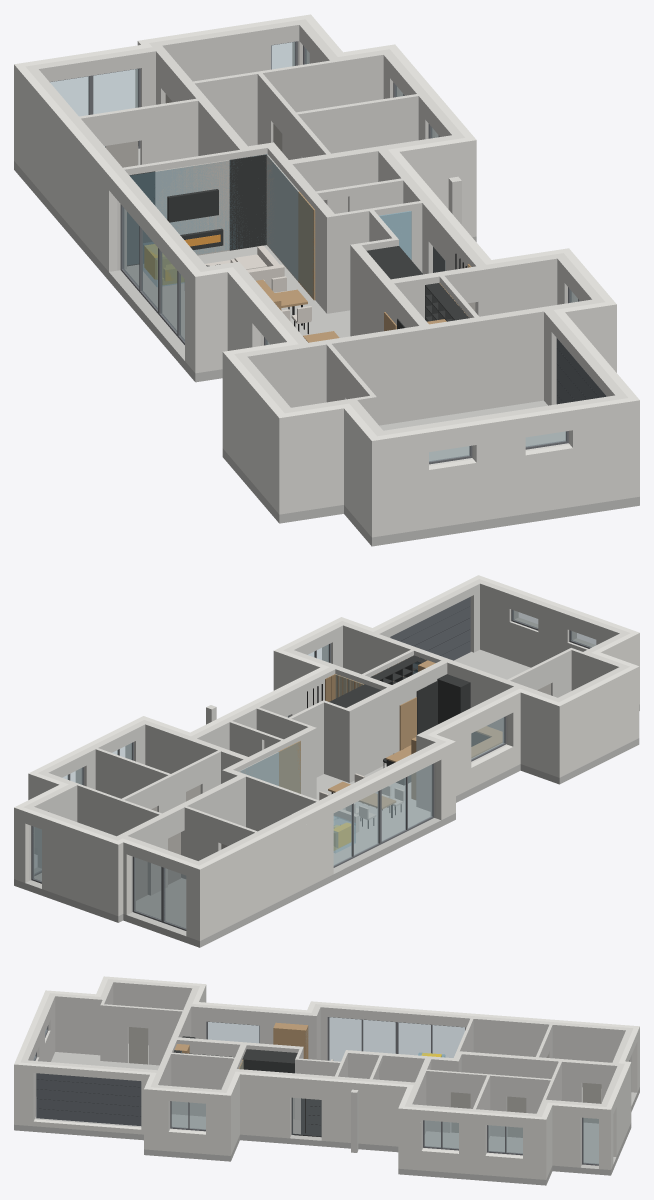
Rendered from dom_wnetrze.glb.
3 renders of one model, top to bottom at view 1: azimuth 30°, elevation 25°; view 2: azimuth 150°, elevation 25°; view 3: azimuth 270°, elevation 25°, orthographic. The views are drawn at different scales.
Parts seen in each view (by area): view 1: SCIANY_rdzenie_02, IZ_12_z_2738_3100, SCIANY_rdzenie_11, IZ_04_z_1000_1888_01, SCIANY_rdzenie_09, PODLOGA_pakiet_stan_wykonany, IZ_02_z_238_900_01, SCIANY_rdzenie_06, SCIANY_rdzenie_10, SCIANY_rdzenie_07, SCIANY_rdzenie_01, BLK_SAL_ART_WALL (+40 smaller); view 2: SCIANY_rdzenie_02, IZ_12_z_2738_3100, SCIANY_rdzenie_11, PODLOGA_pakiet_stan_wykonany, SCIANY_rdzenie_06, SCIANY_rdzenie_09, SCIANY_rdzenie_10, IZ_02_z_238_900_01, IZ_04_z_1000_1888_03, IZ_04_z_1000_1888_01, SCIANY_rdzenie_04, DR01_brama_panel (+39 smaller); view 3: SCIANY_rdzenie_02, IZ_12_z_2738_3100, SCIANY_rdzenie_06, PODLOGA_pakiet_stan_wykonany, DR01_brama_panel, SCIANY_rdzenie_11, IZ_02_z_238_900_05, W10_O7_pokoj_10_szklo, SCIANY_rdzenie_09, IZ_02_z_238_900_06, SCIANY_rdzenie_05, W09_O6_pokoj_10_szklo (+49 smaller).
Boxes of the visible parts, <box> form: SCIANY_rdzenie_02: <box>234,231,604,436</box>; IZ_12_z_2738_3100: <box>14,14,639,452</box>; SCIANY_rdzenie_11: <box>279,126,464,313</box>; IZ_04_z_1000_1888_01: <box>222,390,639,506</box>; SCIANY_rdzenie_09: <box>172,35,399,146</box>; PODLOGA_pakiet_stan_wykonany: <box>14,148,639,546</box>; IZ_02_z_238_900_01: <box>185,333,639,529</box>; SCIANY_rdzenie_06: <box>25,64,276,270</box>; SCIANY_rdzenie_10: <box>282,85,434,159</box>; SCIANY_rdzenie_07: <box>139,25,270,106</box>; SCIANY_rdzenie_01: <box>446,229,573,316</box>; BLK_SAL_ART_WALL: <box>267,155,314,296</box>; SCIANY_rdzenie_02: <box>314,621,630,782</box>; IZ_12_z_2738_3100: <box>14,575,639,877</box>; SCIANY_rdzenie_11: <box>130,701,316,799</box>; PODLOGA_pakiet_stan_wykonany: <box>14,704,639,947</box>; SCIANY_rdzenie_06: <box>179,767,328,878</box>; SCIANY_rdzenie_09: <box>38,766,167,895</box>; SCIANY_rdzenie_10: <box>81,741,185,813</box>; IZ_02_z_238_900_01: <box>436,683,639,814</box>; IZ_04_z_1000_1888_03: <box>186,831,333,917</box>; IZ_04_z_1000_1888_01: <box>508,617,639,754</box>; SCIANY_rdzenie_04: <box>468,579,514,659</box>; DR01_brama_panel: <box>390,597,470,660</box>; SCIANY_rdzenie_02: <box>44,979,308,1128</box>; IZ_12_z_2738_3100: <box>14,976,639,1126</box>; SCIANY_rdzenie_06: <box>452,1015,633,1112</box>; PODLOGA_pakiet_stan_wykonany: <box>14,1043,639,1185</box>; DR01_brama_panel: <box>36,1073,141,1125</box>; SCIANY_rdzenie_11: <box>323,1050,450,1147</box>; IZ_02_z_238_900_05: <box>321,1123,581,1175</box>; W10_O7_pokoj_10_szklo: <box>329,1017,395,1061</box>; SCIANY_rdzenie_09: <box>524,1059,582,1164</box>; IZ_02_z_238_900_06: <box>141,1117,290,1151</box>; SCIANY_rdzenie_05: <box>260,1004,328,1060</box>; W09_O6_pokoj_10_szklo: <box>398,1022,464,1057</box>.
Bounding box in the file's own units: 15.81 × 3.39 × 29.18.
